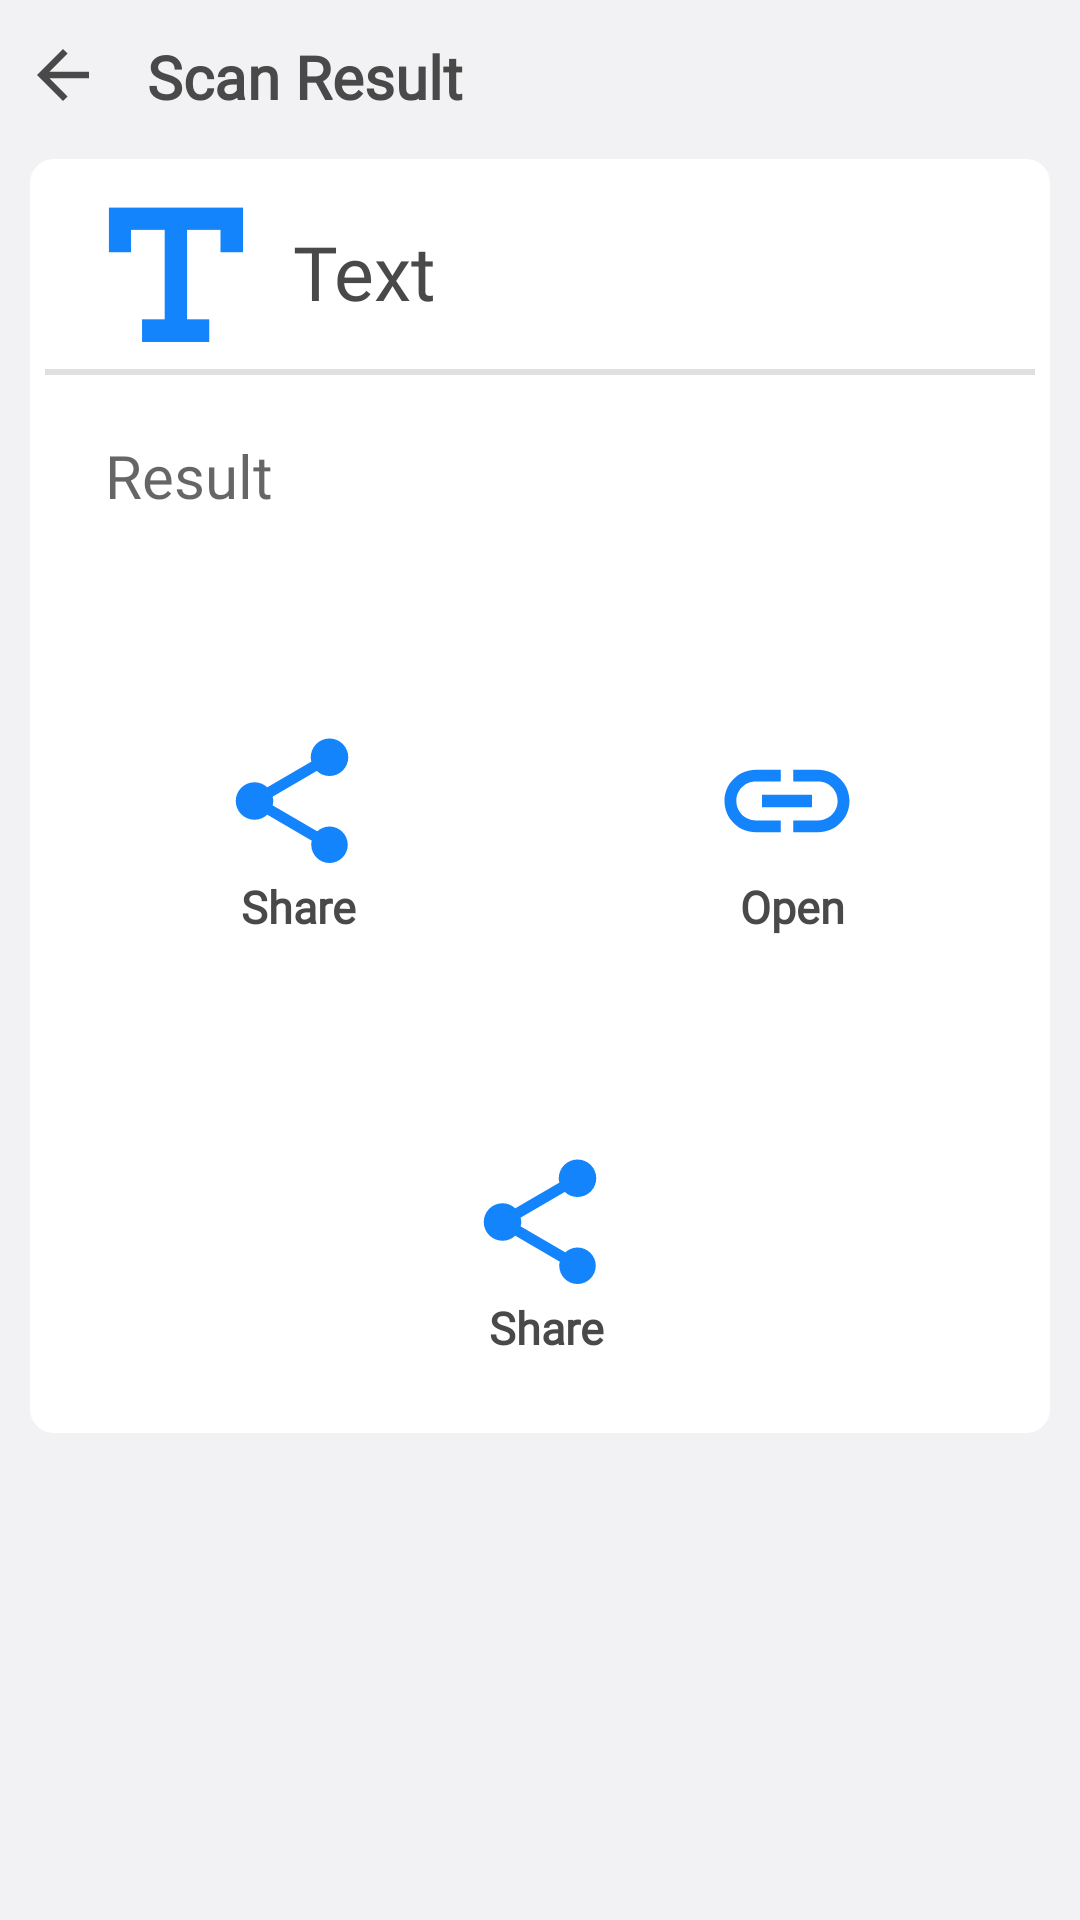

Screen size 1080px×1920px. Icon name, then its box in pixels as (x1, y1, x2, y2):
back: (37, 49, 89, 101)
link: (724, 769, 850, 833)
